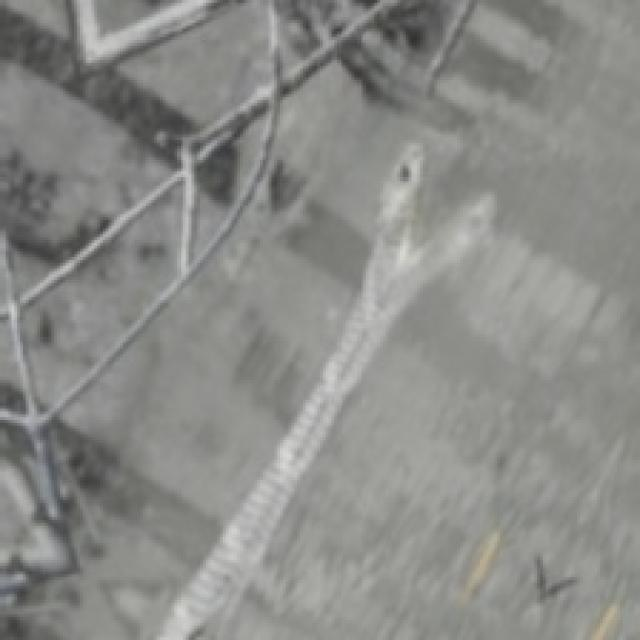king cobra: (156, 142, 424, 639)
